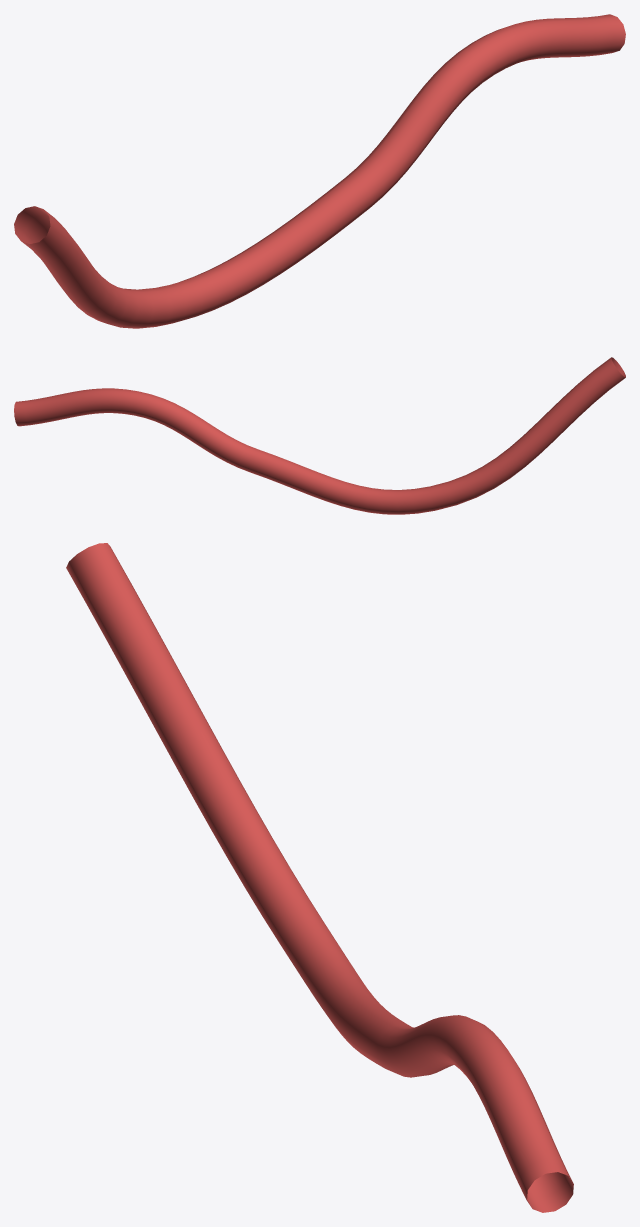
3 views of the same model, one above another, from view 1: azimuth 30°, elevation 25°; view 2: azimuth 150°, elevation 25°; view 3: azimuth 270°, elevation 25° (orthographic). The views are drawn at different scales.
Visible parts, largest first — view 1: 右侧阴部外深动脉; view 2: 右侧阴部外深动脉; view 3: 右侧阴部外深动脉.
Part boxes in pixels (x1,y1,x2,y2): 右侧阴部外深动脉: (14,14,625,328); 右侧阴部外深动脉: (14,357,625,514); 右侧阴部外深动脉: (66,543,573,1212).
Bounding box in the file's own units: 0.0473 × 0.0137 × 0.0209.
